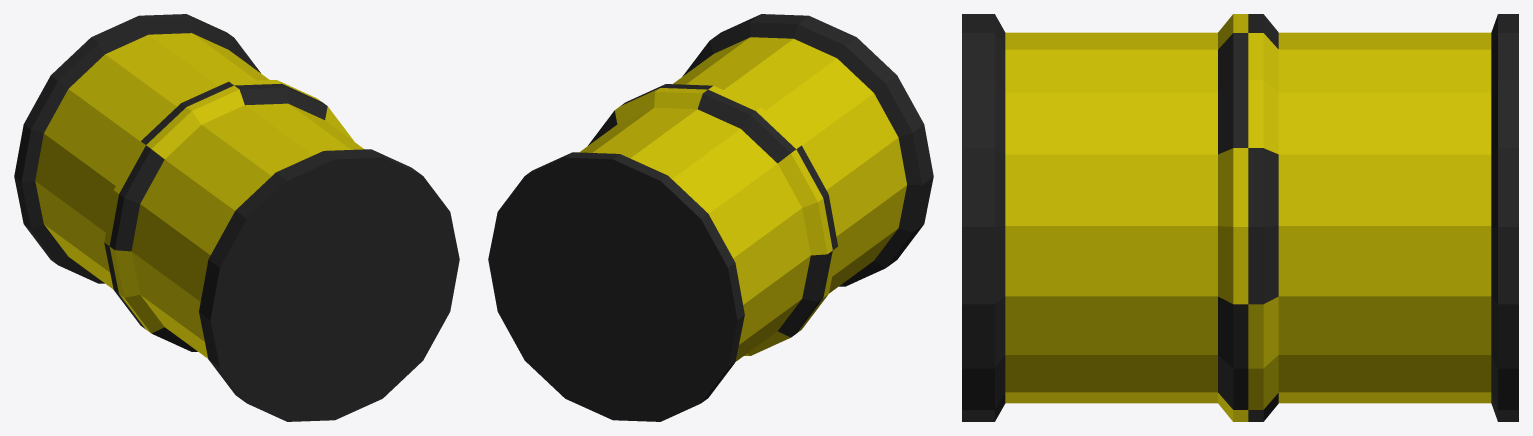
The model's file is Barrel.fbx.
The picture shows the model from 3 angles, left to right: view 1: azimuth 30°, elevation 25°; view 2: azimuth 150°, elevation 25°; view 3: azimuth 270°, elevation 25°; orthographic projection. The views are drawn at different scales.
Visible parts, largest first — view 1: Barrel; view 2: Barrel; view 3: Barrel.
Part boxes in pixels (x1,y1,x2,y2): Barrel: (14,14,459,421); Barrel: (488,14,933,421); Barrel: (962,14,1518,421).
Size of the model in its own units: 110 by 110 by 150.
